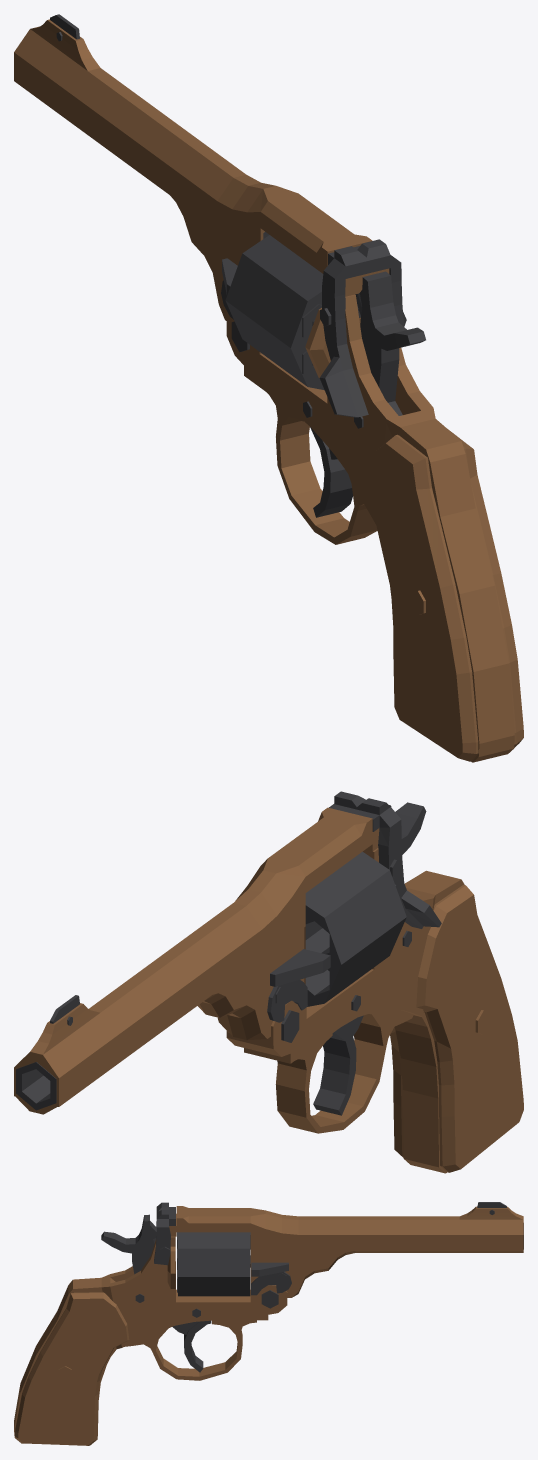
3 renders of one model, top to bottom at view 1: azimuth 30°, elevation 25°; view 2: azimuth 150°, elevation 25°; view 3: azimuth 270°, elevation 25°, orthographic. The views are drawn at different scales.
Visible parts, largest first — view 1: webley-mk-vi; view 2: webley-mk-vi; view 3: webley-mk-vi.
Boxes of the visible parts, box(x1,y1,x2,y2) form: webley-mk-vi: box(14, 14, 523, 762); webley-mk-vi: box(14, 791, 523, 1173); webley-mk-vi: box(14, 1202, 523, 1445).
Size of the model in its own units: 0.0416 by 0.1474 by 0.286.
